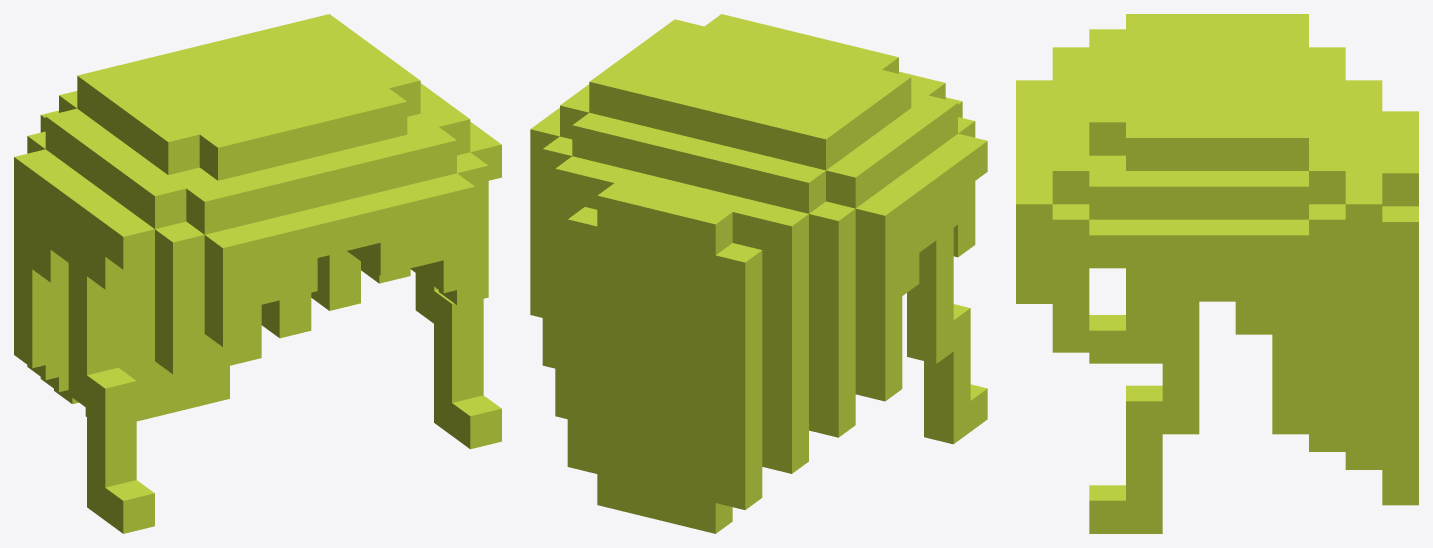
Rendered from Hair1.fbx.
The picture shows the model from 3 angles, left to right: view 1: azimuth 30°, elevation 25°; view 2: azimuth 150°, elevation 25°; view 3: azimuth 270°, elevation 25°; orthographic projection. The views are drawn at different scales.
Parts seen in each view (by area): view 1: Hair1; view 2: Hair1; view 3: Hair1.
Boxes of the visible parts, bbox=[...] form: Hair1: bbox=[14, 14, 501, 533]; Hair1: bbox=[530, 14, 987, 533]; Hair1: bbox=[1016, 14, 1418, 533].
Bounding box in the file's own units: 120 × 120 × 110.
